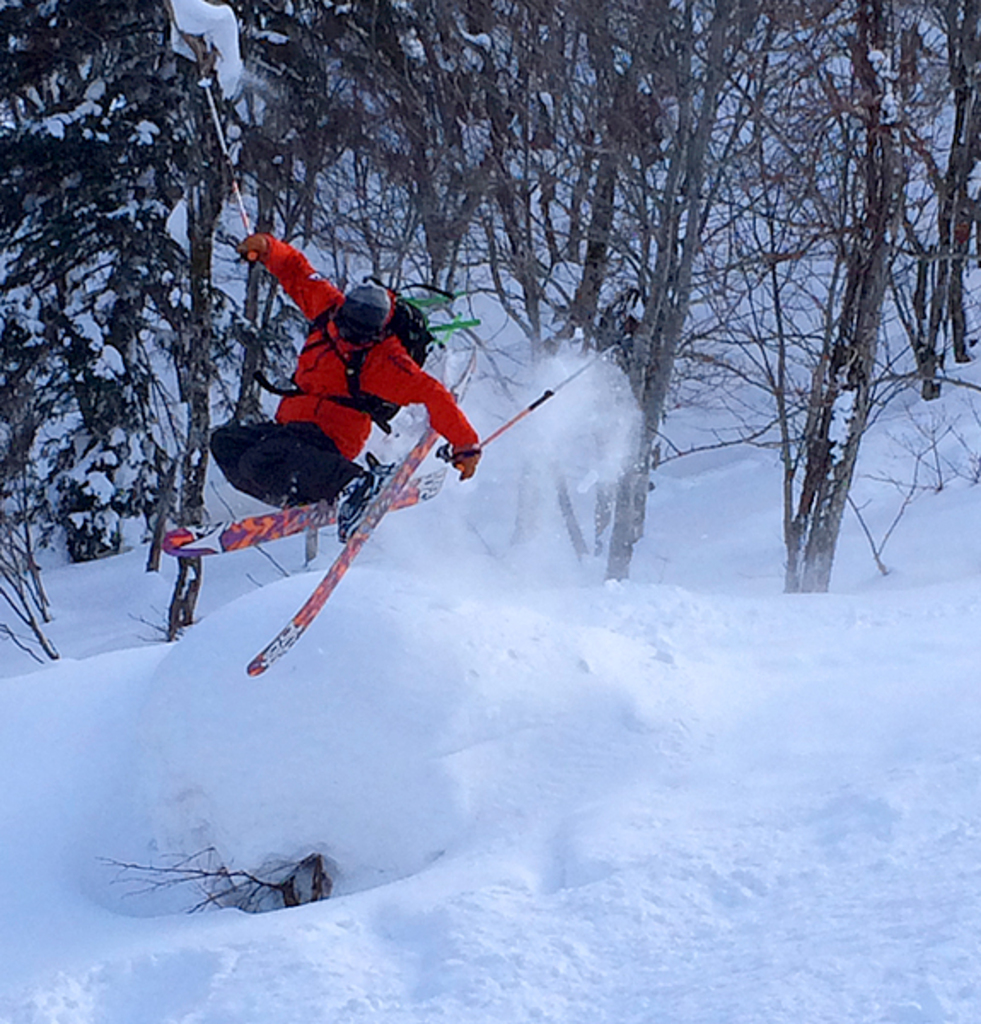Tree: (0, 0, 980, 665)
